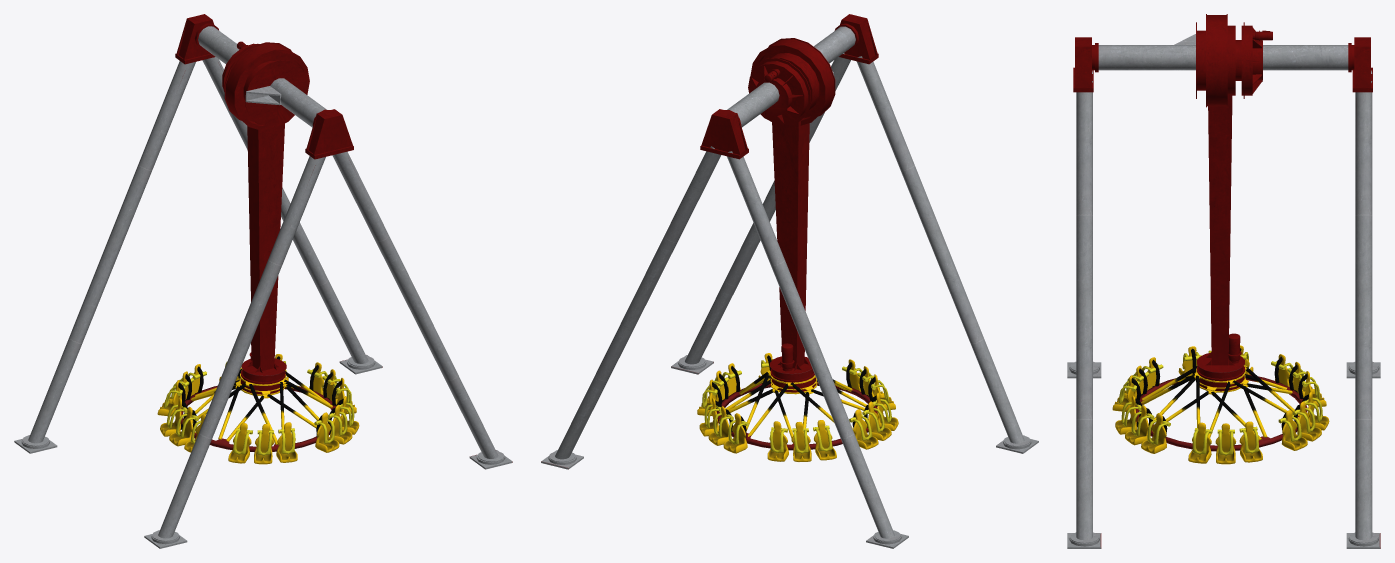
File: Claw.FBX
3 renders of one model, left to right at view 1: azimuth 30°, elevation 25°; view 2: azimuth 150°, elevation 25°; view 3: azimuth 270°, elevation 25°, orthographic. The views are drawn at different scales.
Parts seen in each view (by area): view 1: Cylinder046, Dummy002, chair027; view 2: Cylinder046, Dummy002, chair027; view 3: Cylinder046, chair027, Dummy002.
Part boxes in pixels (x1=…): Cylinder046: x1=14, y1=14, x2=512, y2=548; Dummy002: x1=222, y1=41, x2=309, y2=373; chair027: x1=157, y1=354, x2=359, y2=464; Cylinder046: x1=541, y1=14, x2=1038, y2=548; Dummy002: x1=748, y1=38, x2=835, y2=371; chair027: x1=697, y1=353, x2=898, y2=461; Cylinder046: x1=1067, y1=34, x2=1380, y2=548; chair027: x1=1112, y1=345, x2=1329, y2=464; Dummy002: x1=1196, y1=14, x2=1272, y2=367.
Size of the model in its own units: 4285 by 4740 by 3066.
